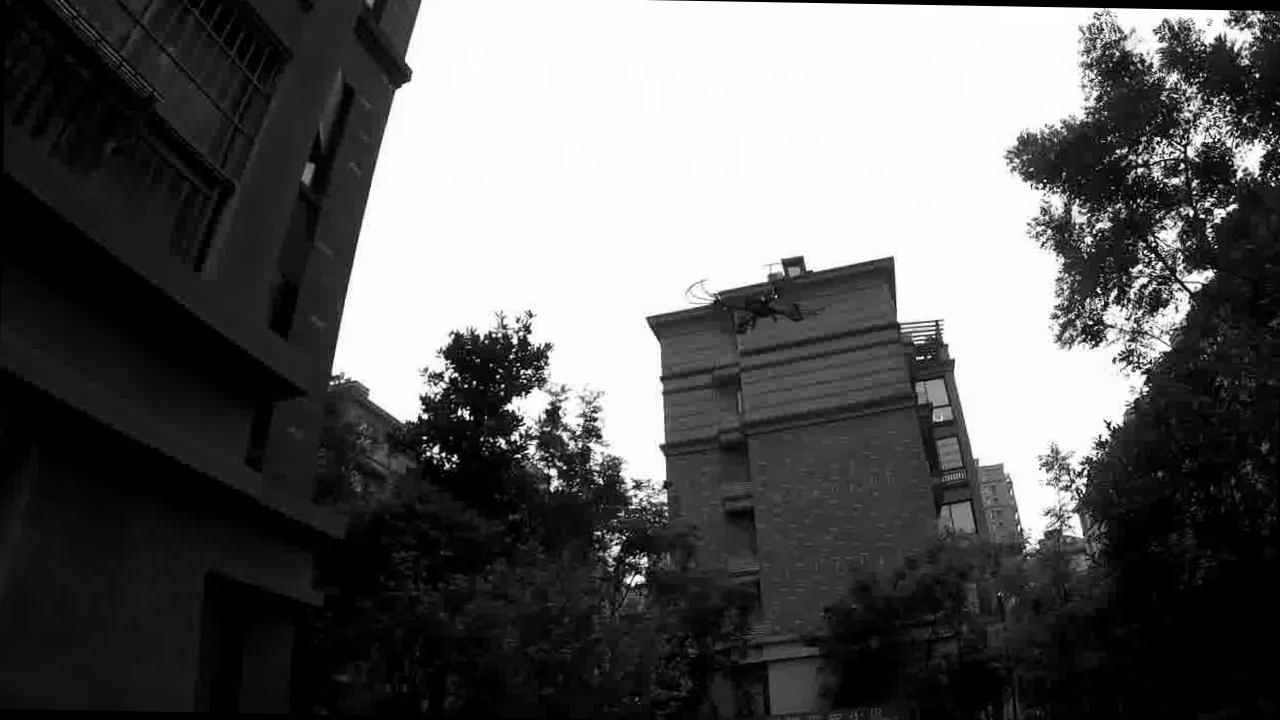drone: (651, 260, 844, 342)
